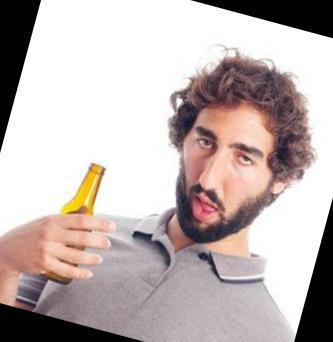Drunk: (182, 107, 267, 230)
